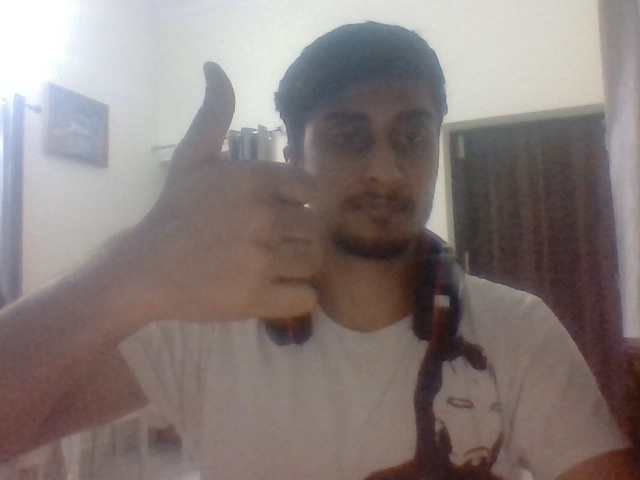ThumbsUp: (158, 62, 320, 323)
